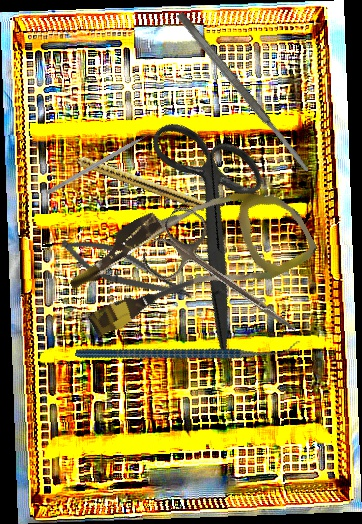Cannula: (58, 150, 321, 365)
Chopper: (74, 273, 301, 424), (46, 128, 161, 201)
Handpiece: (62, 147, 208, 212)
Iris Scissors: (84, 95, 340, 360), (137, 201, 319, 359)
Micro Scissor: (54, 228, 200, 310)
Spatula Surgical: (175, 10, 312, 175)
